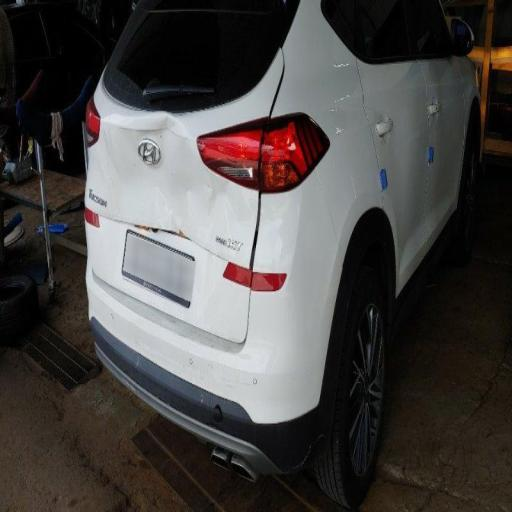dent: (92, 83, 259, 285)
